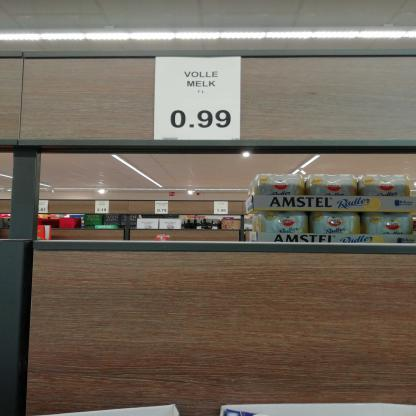prtg: (154, 57, 243, 142), (214, 202, 229, 215), (96, 202, 111, 215), (156, 202, 169, 215), (39, 201, 50, 214)
